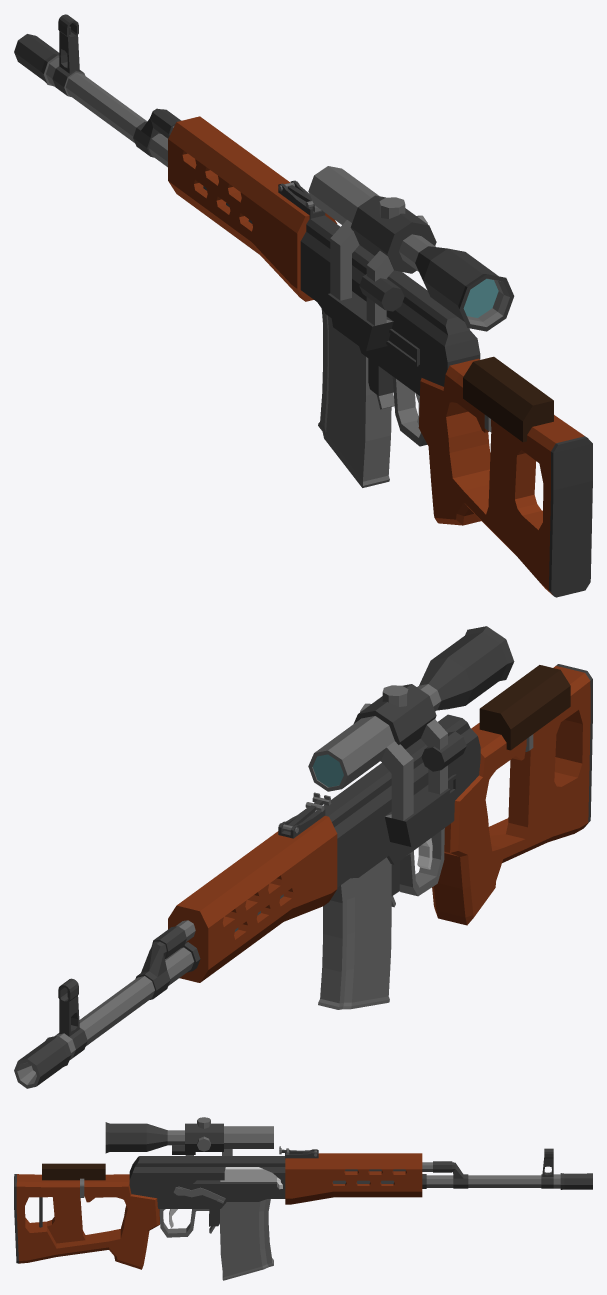
Rendered from snajperka.fbx.
3 views of the same model, one above another, from view 1: azimuth 30°, elevation 25°; view 2: azimuth 150°, elevation 25°; view 3: azimuth 270°, elevation 25° (orthographic). The views are drawn at different scales.
Visible parts, largest first — view 1: SVD; view 2: SVD; view 3: SVD.
Part boxes in pixels (box(x1,y1,x2,y2)): SVD: box(14, 14, 592, 597); SVD: box(14, 626, 592, 1088); SVD: box(14, 1117, 592, 1280).
Bounding box in the file's own units: 4.04 × 14.29 × 47.81.
